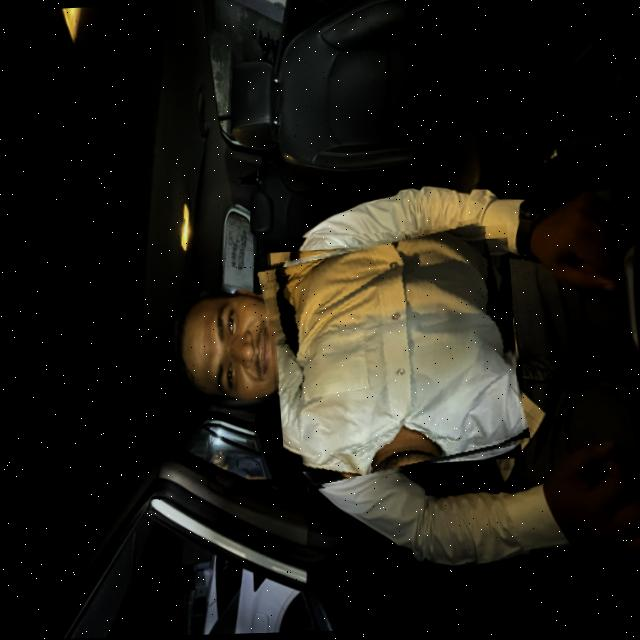no-seatbelt: (260, 226, 521, 485)
